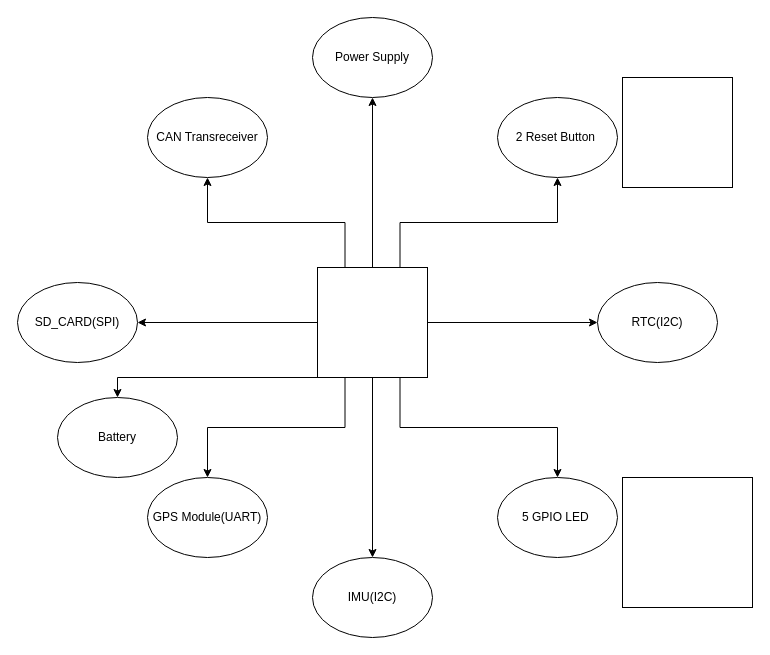
This 770x655 diagram has some shape labels left out. The shapes that lost their labels are listed below. From the top down, each one's centre as x and y in pixels, then its label:
At point 677,132: "1. Read Write pointer match 2. Set RTC".
At point 372,322: "ESP32_VCU".
At point 687,542: "1. initialization 2. read and publish 3. writing 4. wifi and mqtt 5. error".
